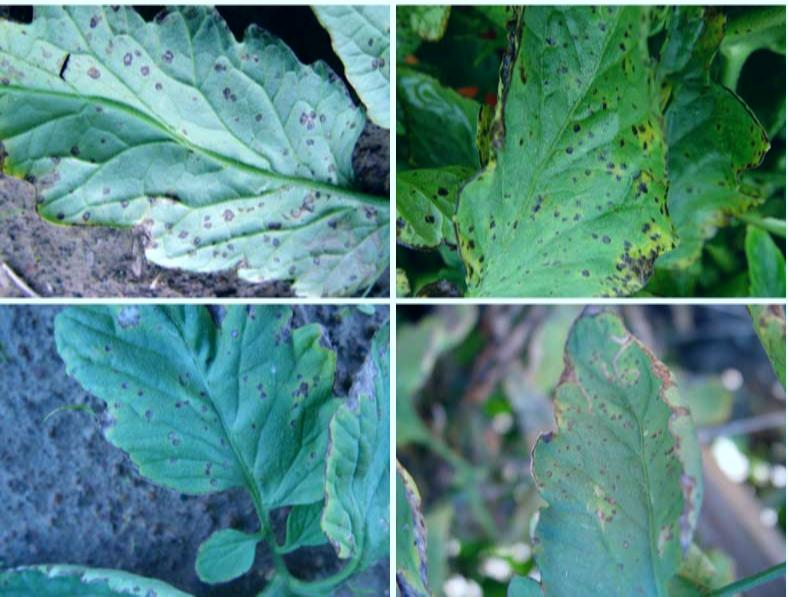Tomato leaf bacterial spot: (4, 10, 372, 292), (435, 14, 679, 300), (56, 309, 330, 556), (510, 306, 699, 585)
